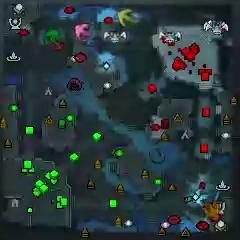x1: (74, 23, 90, 40)
x2: (118, 8, 136, 25)
x3: (193, 187, 208, 204)
x4: (43, 28, 59, 44)
x5: (204, 204, 220, 220)
